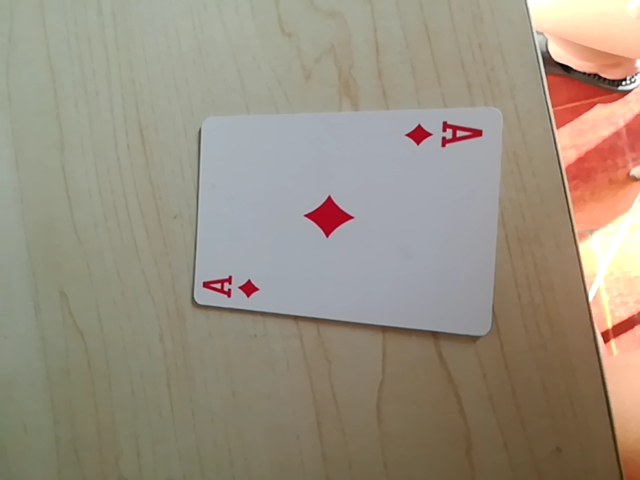fk a: (404, 118, 486, 154), (197, 269, 265, 305)
